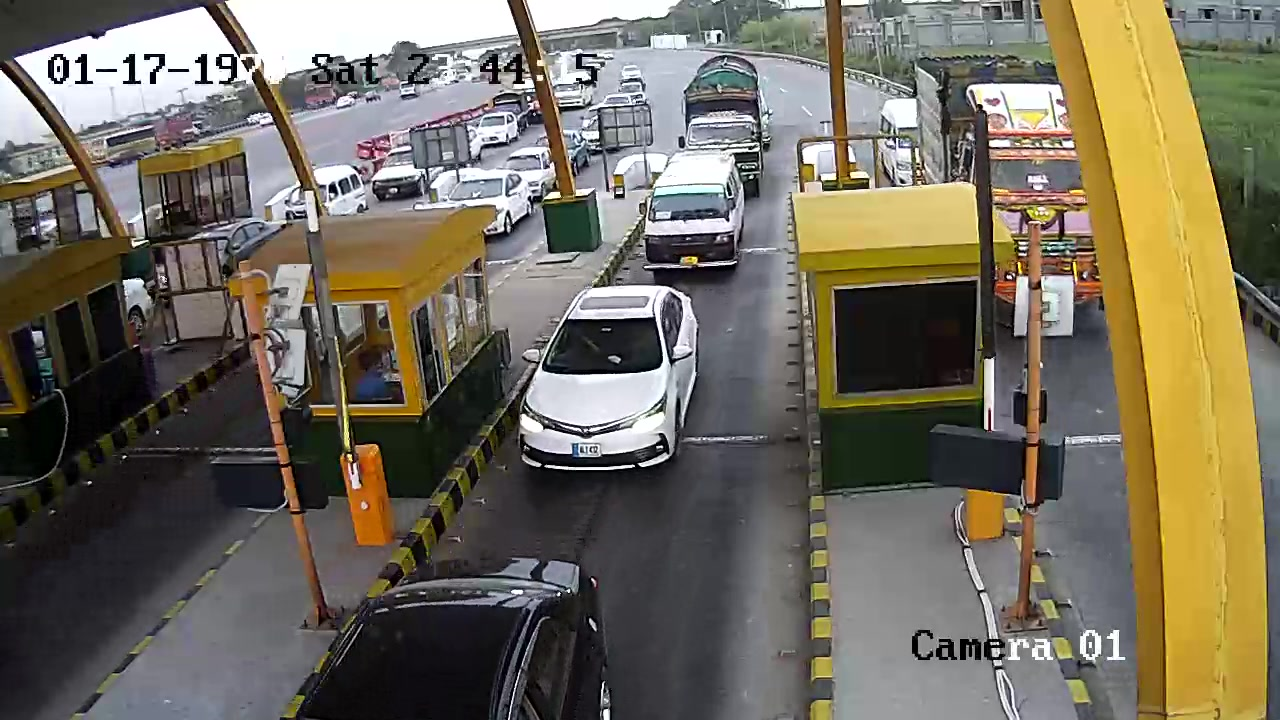F1: (499, 284, 731, 496)
F2: (630, 150, 751, 280)
